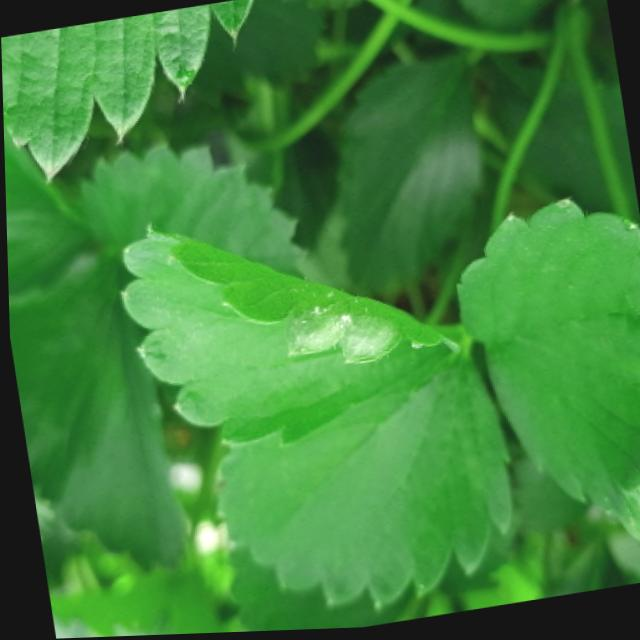Powdery Mildew Leaf: (116, 221, 462, 451)
